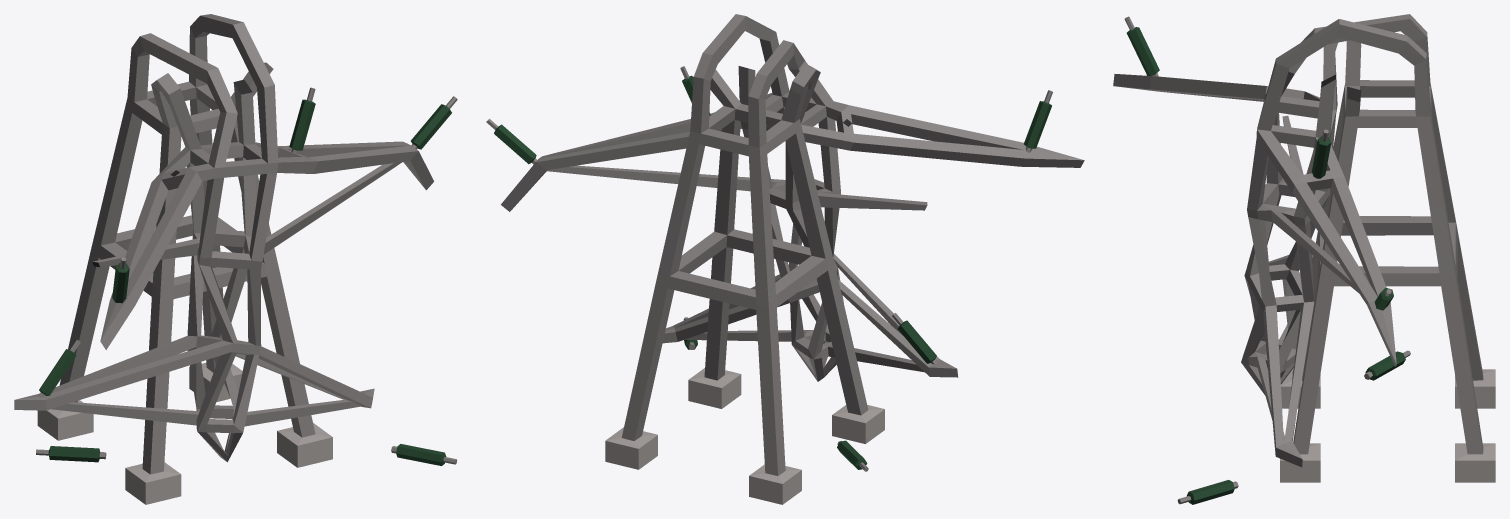
The model's file is apocalypse_power-line-pole-apocalypse-c.fbx.
The picture shows the model from 3 angles, left to right: view 1: azimuth 30°, elevation 25°; view 2: azimuth 150°, elevation 25°; view 3: azimuth 270°, elevation 25°; orthographic projection. The views are drawn at different scales.
Visible parts, largest first — view 1: apocalypse_power_line_pole_apocalypse_c; view 2: apocalypse_power_line_pole_apocalypse_c; view 3: apocalypse_power_line_pole_apocalypse_c.
Part boxes in pixels (x1,y1,x2,y2): apocalypse_power_line_pole_apocalypse_c: (14,14,457,504); apocalypse_power_line_pole_apocalypse_c: (486,14,1084,504); apocalypse_power_line_pole_apocalypse_c: (1113,14,1495,504).
Size of the model in its own units: 200 by 166 by 134.
